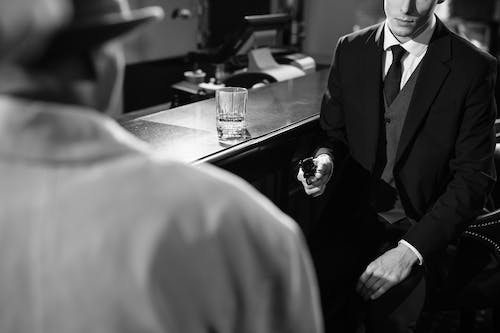alcohol: (213, 85, 249, 139)
gun: (296, 155, 319, 187)
